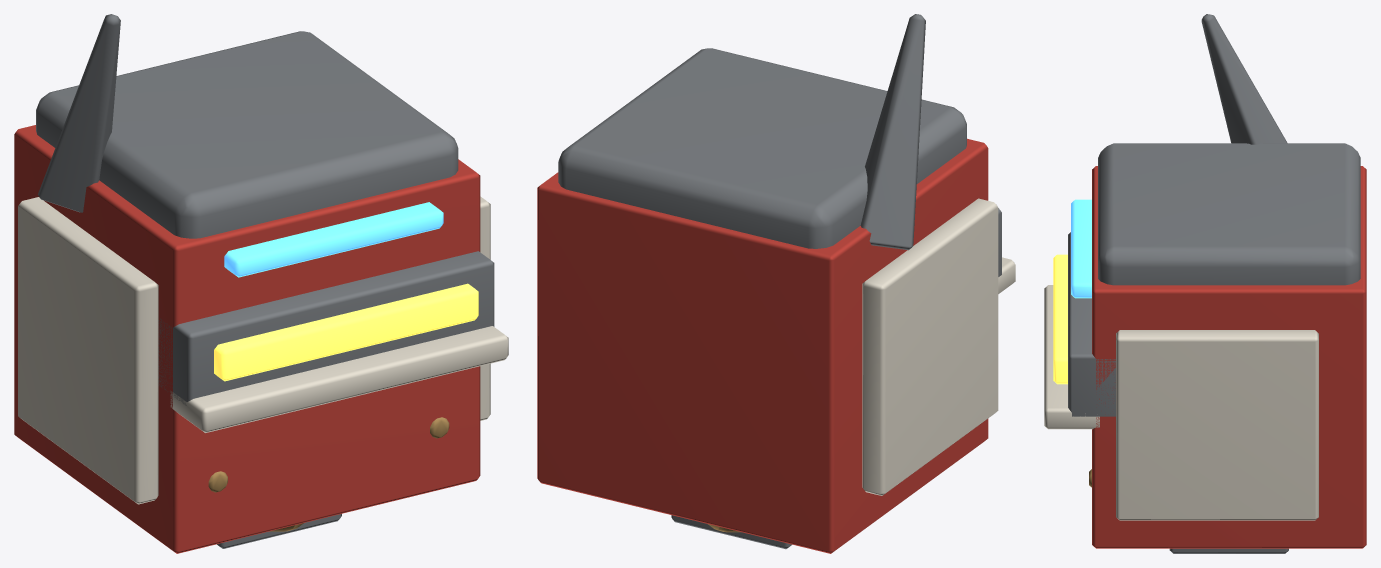
Rendered from everykit_standard_cowl_mk2.glb.
3 views of the same model, side by side, from view 1: azimuth 30°, elevation 25°; view 2: azimuth 150°, elevation 25°; view 3: azimuth 270°, elevation 25° (orthographic). The views are drawn at different scales.
Visible parts, largest first — view 1: everykit_standard_cowl_mk2; view 2: everykit_standard_cowl_mk2; view 3: everykit_standard_cowl_mk2.
Boxes of the visible parts, box(x1,y1,x2,y2) form: everykit_standard_cowl_mk2: box(14, 14, 508, 553); everykit_standard_cowl_mk2: box(537, 14, 1015, 553); everykit_standard_cowl_mk2: box(1044, 14, 1366, 553).
Size of the model in its own units: 0.5844 by 0.8417 by 0.54.
1 material, 1 textured.
